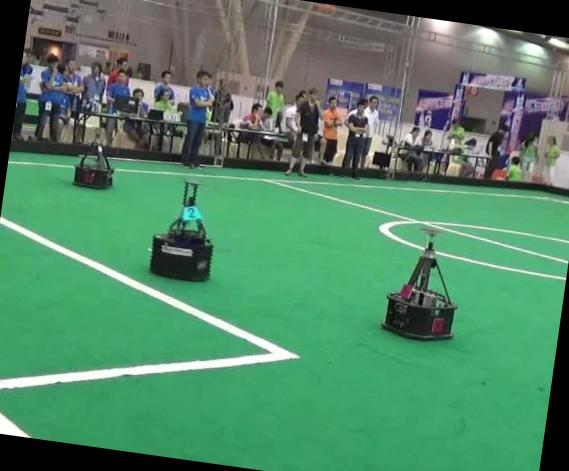person: (284, 88, 319, 175), (182, 70, 213, 167), (340, 99, 368, 178)
robot: (382, 229, 456, 339), (149, 181, 212, 280), (73, 128, 113, 188)
